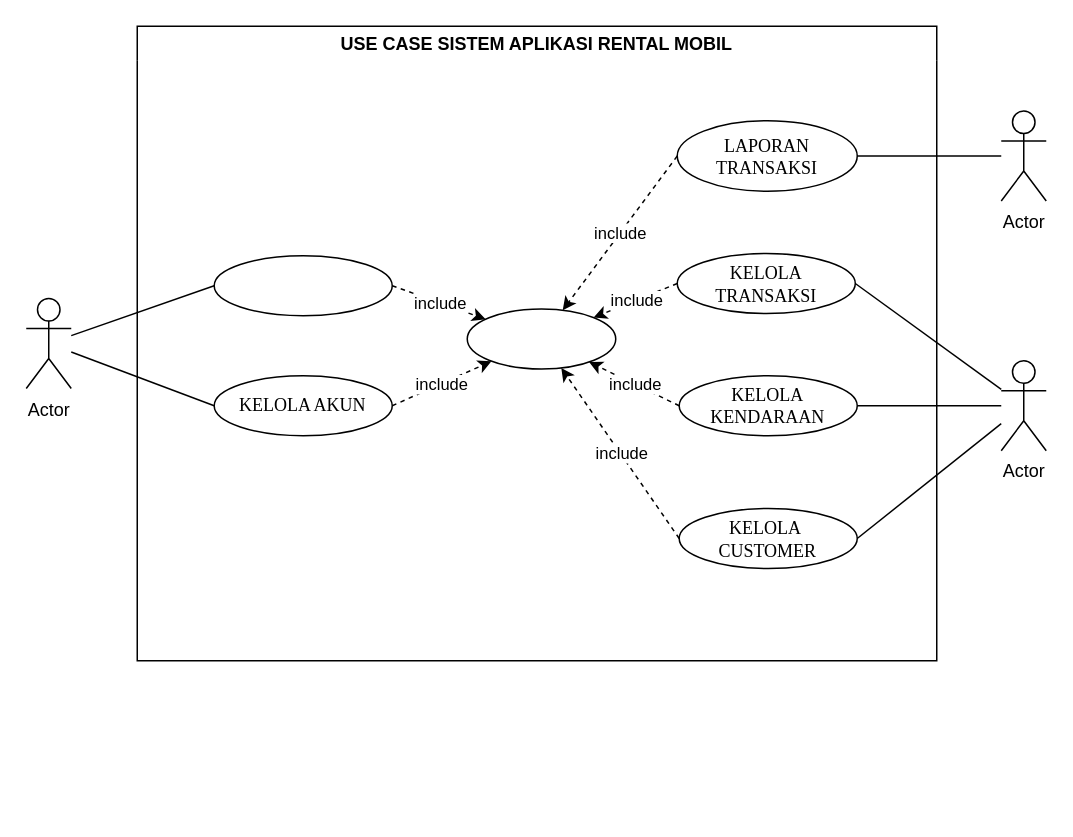
This 1073x837 diagram has some shape labels left out. The box of each missing label's shape, as (x1, y1, x2, y2) in pixels:
LOGIN: (466, 308, 616, 369)
RENTAL KENDARAAN: (213, 254, 392, 316)
